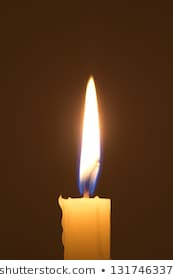Fire: (77, 77, 108, 189)
